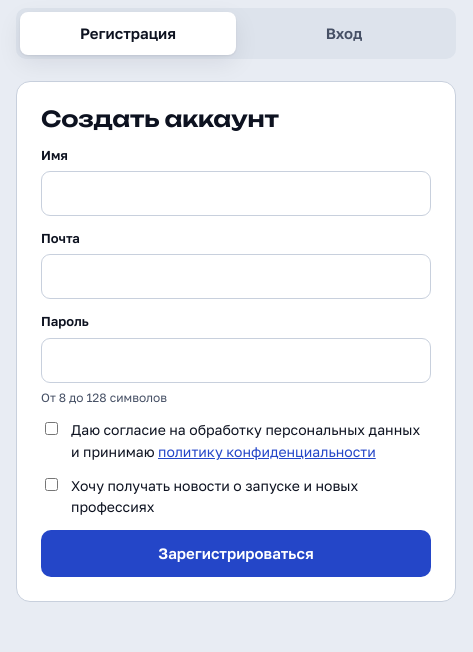
Test case: RegisterPage › без согласия на ПД запрос не уходит
This screenshot has width=473, height=652.
Type "Иван" into the field labelled "Имя".
click(236, 193); type("Иван")  # box [41,171,431,216]
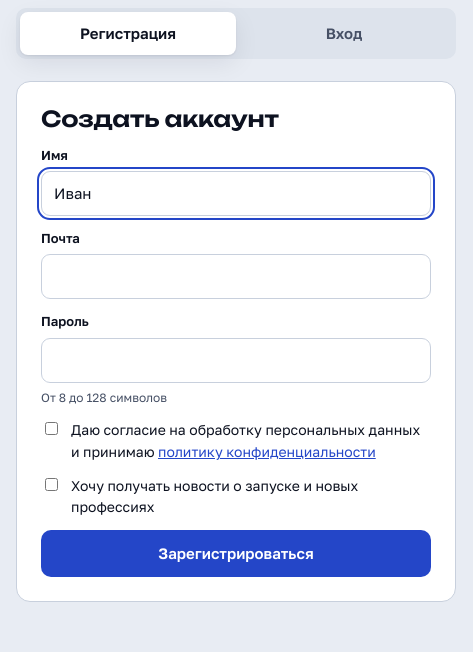
Type "ivan@example.ru" into the field labelled "Почта".
click(236, 277); type("ivan@example.ru")  # box [41,254,431,300]
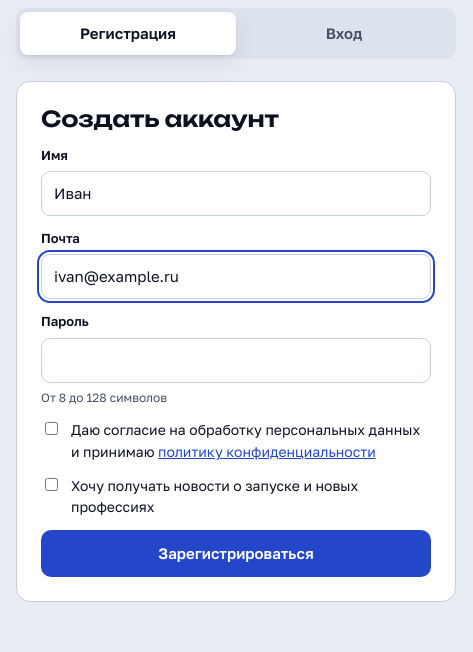
Type "секрет123" into the password field labelled "Пароль".
click(236, 360); type("секрет123")  # box [41,338,431,383]
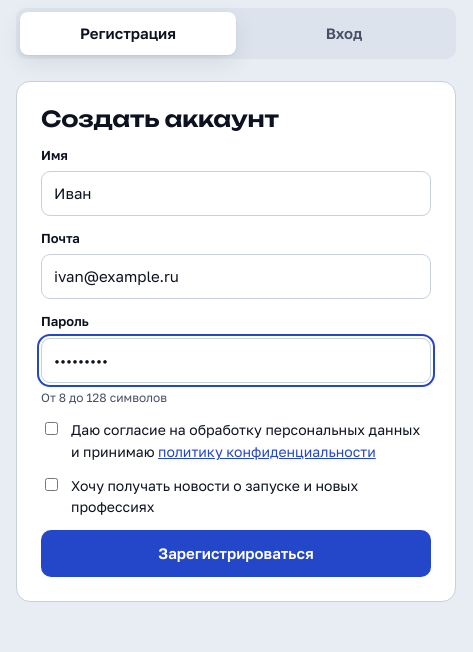
Click the button "Зарегистрироваться".
click(236, 554)  # box [41,530,431,578]
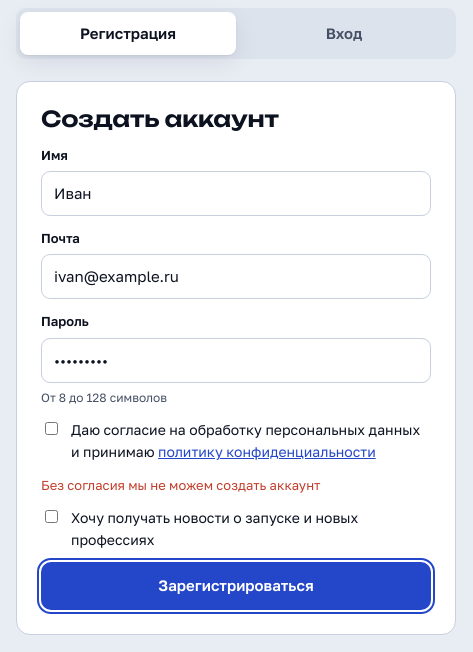
Expected: the text "Без согласия мы не можем создать аккаунт" is shown, [41,477,320,493]
